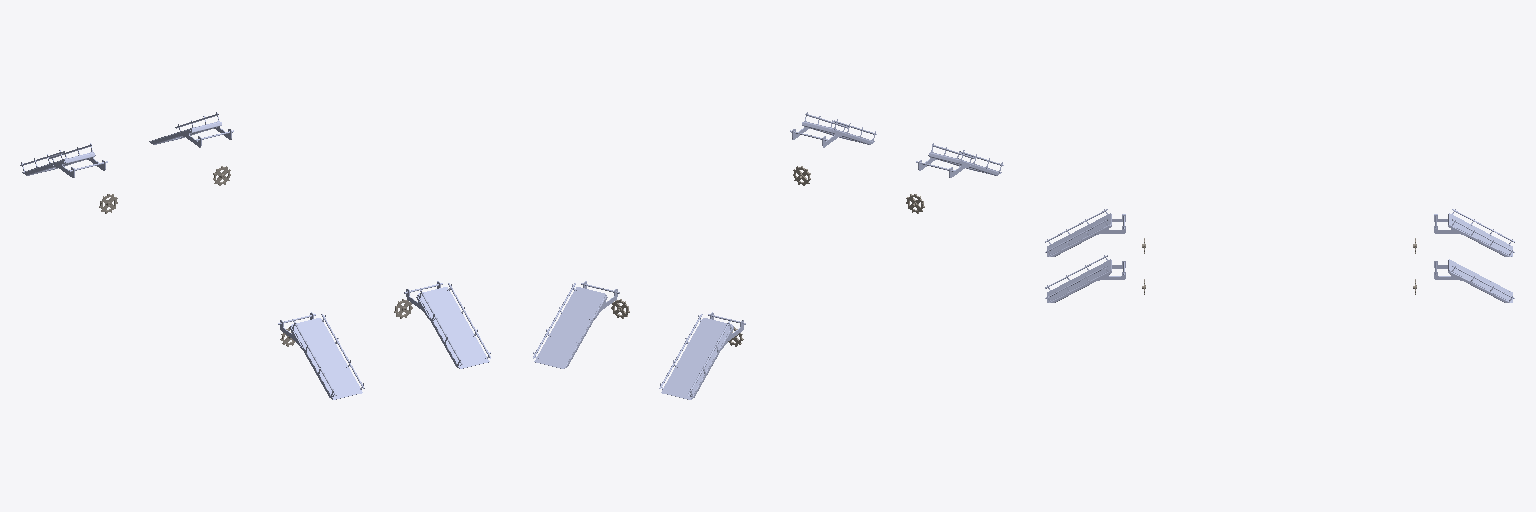
robot.urdf — transporter_description:
<?xml version="1.0" encoding="utf-8"?>
<!-- This URDF was automatically created by SolidWorks to URDF Exporter! Originally created by Stephen Brawner ([email redacted]) 
     Commit Version: 1.6.0-4-g7f85cfe  Build Version: 1.6.7995.38578
     For more information, please see http://wiki.ros.org/sw_urdf_exporter -->
<robot
  name="transporter_description">
  <link
    name="base_link">
    <inertial>
      <origin
        xyz="0.00034798 -0.0013381 0.4763"
        rpy="0 0 0" />
      <mass
        value="158.02" />
      <inertia
        ixx="15.986"
        ixy="-1.8949E-06"
        ixz="2.5524E-07"
        iyy="16.291"
        iyz="3.2616E-06"
        izz="31.173" />
    </inertial>
    <visual>
      <origin
        xyz="0 0 0"
        rpy="0 0 0" />
      <geometry>
        <mesh
          filename="package://transporter_description/meshes/base_link.STL" />
      </geometry>
      <material
        name="">
        <color
          rgba="0.79216 0.81961 0.93333 1" />
      </material>
    </visual>
    <collision>
      <origin
        xyz="0 0 0"
        rpy="0 0 0" />
      <geometry>
        <mesh
          filename="package://transporter_description/meshes/base_link.STL" />
      </geometry>
    </collision>
  </link>
  <link
    name="TEEN1">
    <inertial>
      <origin
        xyz="-0.00365 -0.19615 -0.55406"
        rpy="-0.0857556573 0 0" />
      <mass
        value="5.0574" />
      <inertia
        ixx="0.31243"
        ixy="-5.1789E-06"
        ixz="2.5004E-06"
        iyy="0.28281"
        iyz="-0.1149"
        izz="0.080034" />
    </inertial>
    <visual>
      <origin
        xyz="-0.23 0 0"
        rpy="-0.0857556573 0 0" />
      <geometry>
        <mesh
          filename="package://transporter_description/meshes/TEEN1.STL" />
      </geometry>
      <material
        name="">
        <color
          rgba="0.79216 0.81961 0.93333 1" />
      </material>
    </visual>
    <collision>
      <origin
        xyz="-0.23 0 0"
        rpy="-0.0857556573 0 0" />
      <geometry>
        <mesh
          filename="package://transporter_description/meshes/TEEN1.STL" />
      </geometry>
    </collision>
  </link>
  <joint
    name="TEEN1"
    type="revolute">
    <origin
      xyz="0.765 2.1833 0.45859"
      rpy="1.570755657 0 0" />
    <parent
      link="base_link" />
    <child
      link="TEEN1" />
    <axis
      xyz="1 0 0" />
    <limit
      lower="0"
      upper="1"
      effort="1E+15"
      velocity="1E+15" />
  </joint>
  <link
    name="TEEN2">
    <inertial>
      <origin
        xyz="-0.000000141892452 -0.195331715910894 -0.556488088979497"
        rpy="-0.0857556573 0 0" />
      <mass
        value="5.16421914907212" />
      <inertia
        ixx="0.317678093720516"
        ixy="2.19363902142112E-08"
        ixz="6.58000038536239E-08"
        iyy="0.287097452757315"
        iyz="-0.116881491319671"
        izz="0.0810167628627974" />
    </inertial>
    <visual>
      <origin
        xyz="0.23 0 0"
        rpy="-0.0857556573 0 0" />
      <geometry>
        <mesh
          filename="package://transporter_description/meshes/TEEN2.STL" />
      </geometry>
      <material
        name="">
        <color
          rgba="0.792156862745098 0.819607843137255 0.933333333333333 1" />
      </material>
    </visual>
    <collision>
      <origin
        xyz="0.23 0 0"
        rpy="-0.0857556573 0 0" />
      <geometry>
        <mesh
          filename="package://transporter_description/meshes/TEEN2.STL" />
      </geometry>
    </collision>
  </link>
  <joint
    name="TEEN2"
    type="revolute">
    <origin
      xyz="-0.765 2.1833 0.45859"
      rpy="1.570755657 0 0" />
    <parent
      link="base_link" />
    <child
      link="TEEN2" />
    <axis
      xyz="1 0 0" />
    <limit
      lower="0"
      upper="1"
      effort="1E+15"
      velocity="1E+15" />
  </joint>
  <link
    name="TEEN3">
    <inertial>
      <origin
        xyz="0 -0.19533 -0.55649"
        rpy="-0.0857556573 0 0" />
      <mass
        value="5.1642" />
      <inertia
        ixx="0.31768"
        ixy="2.2393E-08"
        ixz="6.5974E-08"
        iyy="0.2871"
        iyz="-0.11688"
        izz="0.081017" />
    </inertial>
    <visual>
      <origin
        xyz="0.23 0 0"
        rpy="-0.0857556573 0 0" />
      <geometry>
        <mesh
          filename="package://transporter_description/meshes/TEEN3.STL" />
      </geometry>
      <material
        name="">
        <color
          rgba="0.79216 0.81961 0.93333 1" />
      </material>
    </visual>
    <collision>
      <origin
        xyz="-0.23 0 0"
        rpy="-0.0857556573 0 0" />
      <geometry>
        <mesh
          filename="package://transporter_description/meshes/TEEN3.STL" />
      </geometry>
    </collision>
  </link>
  <joint
    name="TEEN3"
    type="revolute">
    <origin
      xyz="0.765 -2.1833 0.45859"
      rpy="1.570755657 0 3.1416" />
    <parent
      link="base_link" />
    <child
      link="TEEN3" />
    <axis
      xyz="1 0 0" />
    <limit
      lower="0"
      upper="1"
      effort="1E+15"
      velocity="1E+15" />
  </joint>
  <link
    name="TEEN4">
    <inertial>
      <origin
        xyz="-1.4210116e-7 -0.195331715605971 -0.556488088219832"
        rpy="-0.0857556573 0 0" />
      <mass
        value="5.16421914009789" />
      <inertia
        ixx="0.317678093585832"
        ixy="2.24023556844291E-08"
        ixz="6.59911198811905E-08"
        iyy="0.28709745108947"
        iyz="-0.116881491266852"
        izz="0.0810167610793654" />
    </inertial>
    <visual>
      <origin
        xyz="-0.23 0 0"
        rpy="-0.0857556573 0 0" />
      <geometry>
        <mesh
          filename="package://transporter_description/meshes/TEEN4.STL" />
      </geometry>
      <material
        name="">
        <color
          rgba="0.792156862745098 0.819607843137255 0.933333333333333 1" />
      </material>
    </visual>
    <collision>
      <origin
        xyz="-0.23 0 0"
        rpy="-0.0857556573 0 0" />
      <geometry>
        <mesh
          filename="package://transporter_description/meshes/TEEN4.STL" />
      </geometry>
    </collision>
  </link>
  <joint
    name="TEEN4"
    type="revolute">
    <origin
      xyz="-0.765 -2.1833 0.45859"
      rpy="1.570755657 0 3.1416" />
    <parent
      link="base_link" />
    <child
      link="TEEN4" />
    <axis
      xyz="1 0 0" />
    <limit
      lower="0"
      upper="1"
      effort="1E+15"
      velocity="1E+15" />
  </joint>
  <link
    name="WHEEL1">
    <inertial>
      <origin
        xyz="3.3307E-16 0 -0.033417"
        rpy="0 0 0" />
      <mass
        value="4.0671" />
      <inertia
        ixx="0.010735"
        ixy="-4.1666E-18"
        ixz="2.6989E-19"
        iyy="0.010735"
        iyz="2.4171E-19"
        izz="0.020875" />
    </inertial>
    <visual>
      <origin
        xyz="0 0 0"
        rpy="0 0 0" />
      <geometry>
        <mesh
          filename="package://transporter_description/meshes/WHEEL1.STL" />
      </geometry>
      <material
        name="">
        <color
          rgba="0.64706 0.61961 0.58824 1" />
      </material>
    </visual>
    <collision>
      <origin
        xyz="0 0 0"
        rpy="0 0 0" />
      <geometry>
        <mesh
          filename="package://transporter_description/meshes/WHEEL1.STL" />
      </geometry>
    </collision>
  </link>
  <joint
    name="WHEEL1"
    type="continuous">
    <origin
      xyz="0.685625 1.866 0.12723" 
      rpy="1.5708 0.00064167 0" />
    <parent
      link="base_link" />
    <child
      link="WHEEL1" />
    <axis
      xyz="0 0 -1" />
    <limit
      lower="1E-15"
      upper="1E+15"
      effort="1E+15"
      velocity="1E+15" />
  </joint>
  <link
    name="WHEEL2">
    <inertial>
      <origin
        xyz="3.3307E-16 2.7756E-17 -0.033417"
        rpy="0 0 0" />
      <mass
        value="4.0671" />
      <inertia
        ixx="0.010735"
        ixy="-6.4718E-18"
        ixz="2.2174E-19"
        iyy="0.010735"
        iyz="2.9921E-20"
        izz="0.020875" />
    </inertial>
    <visual>
      <origin
        xyz="0 0 0"
        rpy="0 0 0" />
      <geometry>
        <mesh
          filename="package://transporter_description/meshes/WHEEL2.STL" />
      </geometry>
      <material
        name="">
        <color
          rgba="0.64706 0.61961 0.58824 1" />
      </material>
    </visual>
    <collision>
      <origin
        xyz="0 0 0"
        rpy="0 0 0" />
      <geometry>
        <mesh
          filename="package://transporter_description/meshes/WHEEL2.STL" />
      </geometry>
    </collision>
  </link>
  <joint
    name="WHEEL2"
    type="continuous">
    <origin
      xyz="-0.685625 1.866 0.12723"
      rpy="1.5708 0.00064167 0" />
    <parent
      link="base_link" />
    <child
      link="WHEEL2" />
    <axis
      xyz="0 0 1" />
    <limit
      lower="1E-15"
      upper="1E+15"
      effort="1E+15"
      velocity="1E+15" />
  </joint>
  <link
    name="WHEEL3">
    <inertial>
      <origin
        xyz="3.0531E-16 2.7756E-17 0.025583"
        rpy="0 0 0" />
      <mass
        value="4.0671" />
      <inertia
        ixx="0.010735"
        ixy="-2.9456E-18"
        ixz="5.1096E-19"
        iyy="0.010735"
        iyz="2.1209E-19"
        izz="0.020875" />
    </inertial>
    <visual>
      <origin
        xyz="0 0 0"
        rpy="0 0 0" />
      <geometry>
        <mesh
          filename="package://transporter_description/meshes/WHEEL3.STL" />
      </geometry>
      <material
        name="">
        <color
          rgba="0.64706 0.61961 0.58824 1" />
      </material>
    </visual>
    <collision>
      <origin
        xyz="0 0 0"
        rpy="0 0 0" />
      <geometry>
        <mesh
          filename="package://transporter_description/meshes/WHEEL3.STL" />
      </geometry>
    </collision>
  </link>
  <joint
    name="WHEEL3"
    type="continuous">
    <origin
      xyz="0.685625 -1.875 0.12723"
      rpy="1.5708 0.00064167 0" />
    <parent
      link="base_link" />
    <child
      link="WHEEL3" />
    <axis
      xyz="0 0 -1" />
    <limit
      lower="1E-15"
      upper="1E+15"
      effort="1E+15"
      velocity="1E+15" />
  </joint>
  <link
    name="WHEEL4">
    <inertial>
      <origin
        xyz="3.6082E-16 2.7756E-17 0.025583"
        rpy="0 0 0" />
      <mass
        value="4.0671" />
      <inertia
        ixx="0.010735"
        ixy="-1.4658E-18"
        ixz="4.4725E-19"
        iyy="0.010735"
        iyz="1.6903E-19"
        izz="0.020875" />
    </inertial>
    <visual>
      <origin
        xyz="0 0 0"
        rpy="0 0 0" />
      <geometry>
        <mesh
          filename="package://transporter_description/meshes/WHEEL4.STL" />
      </geometry>
      <material
        name="">
        <color
          rgba="0.64706 0.61961 0.58824 1" />
      </material>
    </visual>
    <collision>
      <origin
        xyz="0 0 0"
        rpy="0 0 0" />
      <geometry>
        <mesh
          filename="package://transporter_description/meshes/WHEEL4.STL" />
      </geometry>
    </collision>
  </link>
  <joint
    name="WHEEL4"
    type="continuous">
    <origin
      xyz="-0.685625 -1.875 0.12723"
      rpy="1.5708 0.00064167 0" />
    <parent
      link="base_link" />
    <child
      link="WHEEL4" />
    <axis
      xyz="0 0 -1" />
    <limit
      lower="1E-15"
      upper="1E+15"
      effort="1E+15"
      velocity="1E+15" />
  </joint>
</robot>

--- Render facts (derived) ---
Views: 3 orthographic renders of the robot side by side, from view 1: azimuth 30°, elevation 25°; view 2: azimuth 150°, elevation 25°; view 3: azimuth 270°, elevation 25°.
Robot: transporter_description — 9 links, 8 joints (4 revolute, 4 continuous); root link base_link; default pose: every joint at zero.
Visible links, largest first — view 1: TEEN3, TEEN4, TEEN2, TEEN1; view 2: TEEN2, TEEN1, TEEN4, TEEN3; view 3: TEEN3, TEEN2, TEEN4, TEEN1.
Link boxes in pixels (left/top/right/bottom): TEEN3: left=404, top=281, right=490, bottom=368; TEEN4: left=278, top=312, right=364, bottom=399; TEEN2: left=20, top=143, right=107, bottom=177; TEEN1: left=149, top=112, right=233, bottom=147; TEEN2: left=659, top=312, right=745, bottom=399; TEEN1: left=533, top=281, right=619, bottom=368; TEEN4: left=916, top=143, right=1003, bottom=177; TEEN3: left=790, top=112, right=876, bottom=147; TEEN3: left=1045, top=255, right=1125, bottom=302; TEEN2: left=1434, top=209, right=1514, bottom=256; TEEN4: left=1045, top=209, right=1125, bottom=256; TEEN1: left=1434, top=259, right=1514, bottom=302.
Bounding box of the posed robot: 1.99 × 6.6 × 0.5838 m (x, y, z).
8 mesh visuals loaded from 9 distinct referenced files (8 binary STL); not drawn: 1 (reference not matched to a file when rendering).
